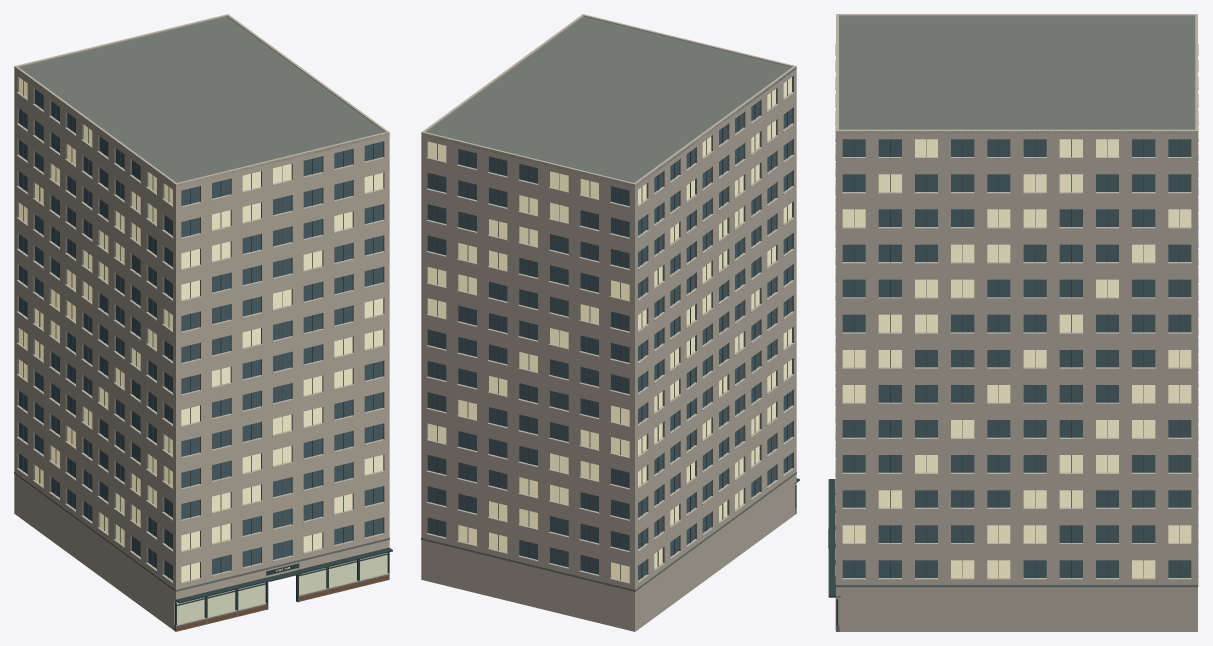
The model's file is cafe-pilot.glb.
3 renders of one model, left to right at view 1: azimuth 30°, elevation 25°; view 2: azimuth 150°, elevation 25°; view 3: azimuth 270°, elevation 25°, orthographic. The views are drawn at different scales.
Visible parts, largest first — view 1: cafe_pilot_lod0; view 2: cafe_pilot_lod0; view 3: cafe_pilot_lod0.
Boxes of the visible parts, x1,y1,x2,y2 form: cafe_pilot_lod0: [14, 14, 392, 631]; cafe_pilot_lod0: [421, 14, 799, 631]; cafe_pilot_lod0: [828, 14, 1198, 631].
Bounding box in the file's own units: 23.57 × 46.89 × 31.42.
